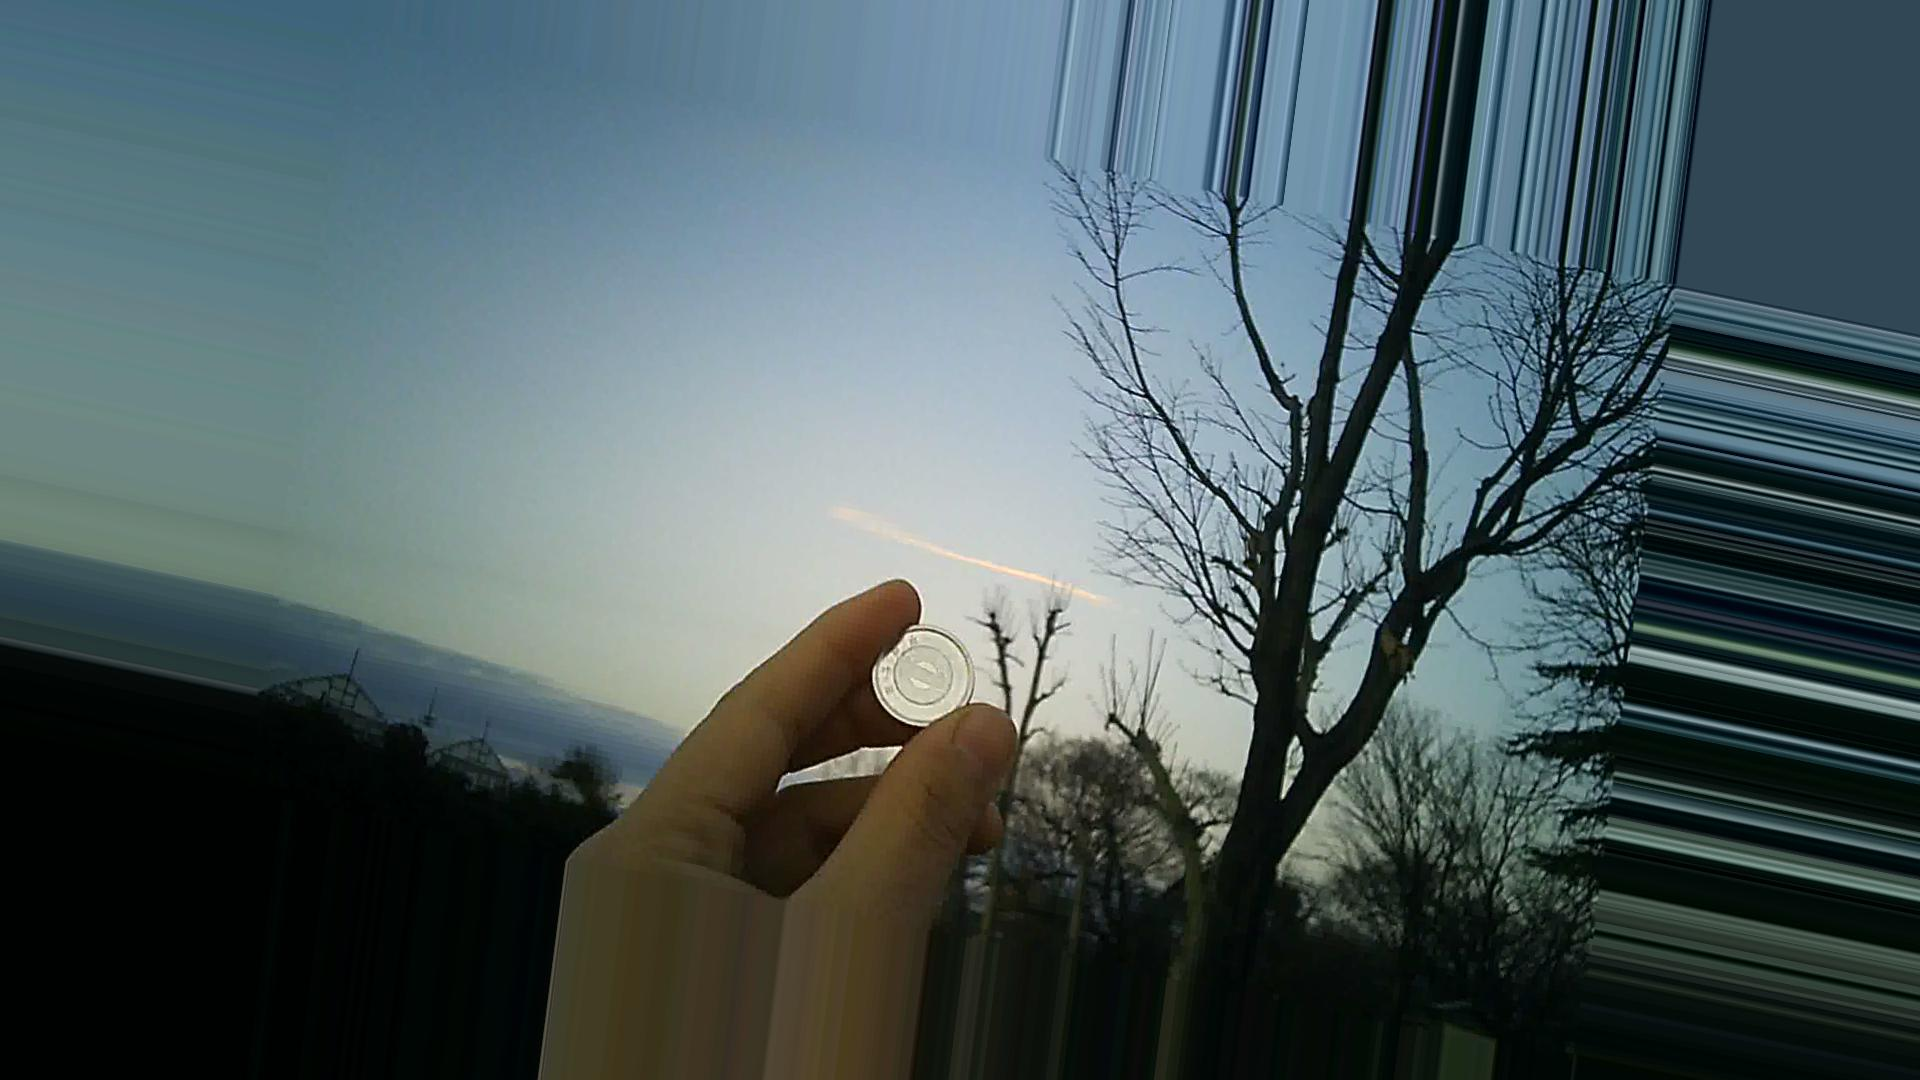1 Yen: (874, 613, 978, 720)
